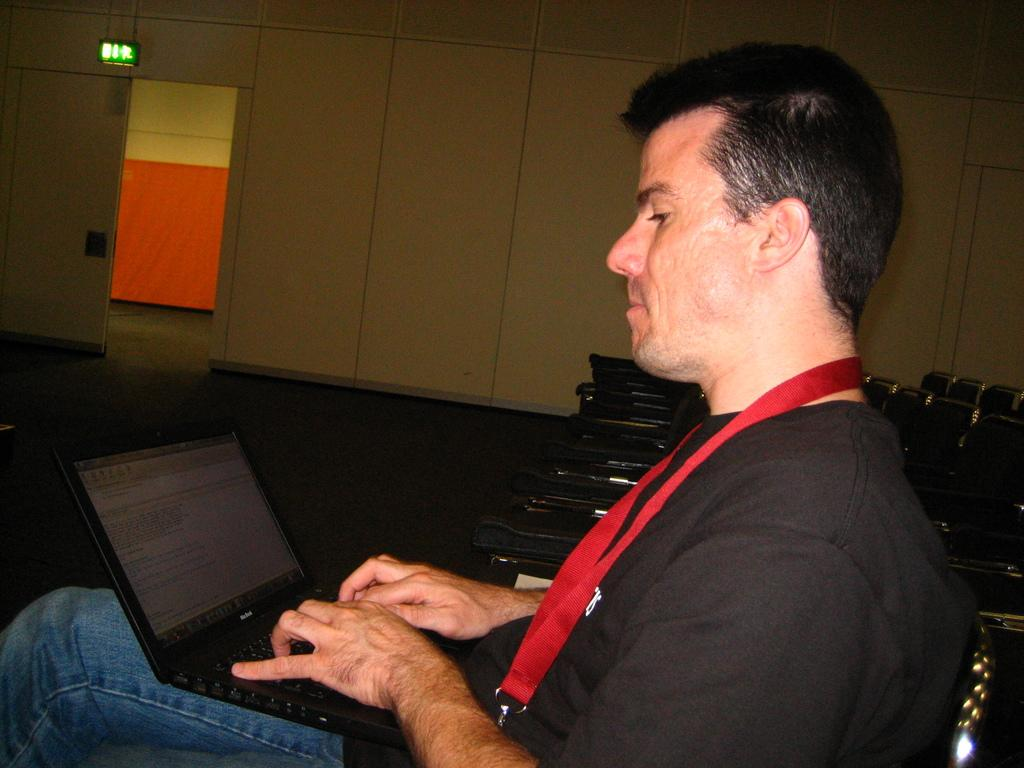Laptop: (53, 438, 422, 731)
